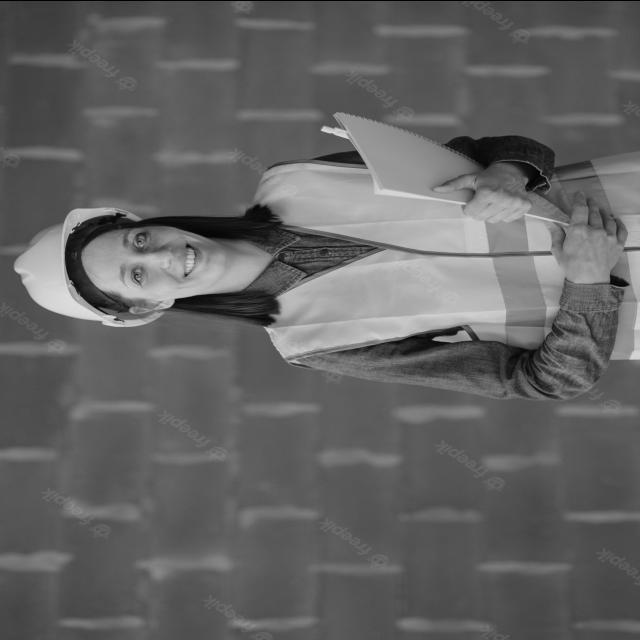safety_helmet: (14, 208, 129, 324)
